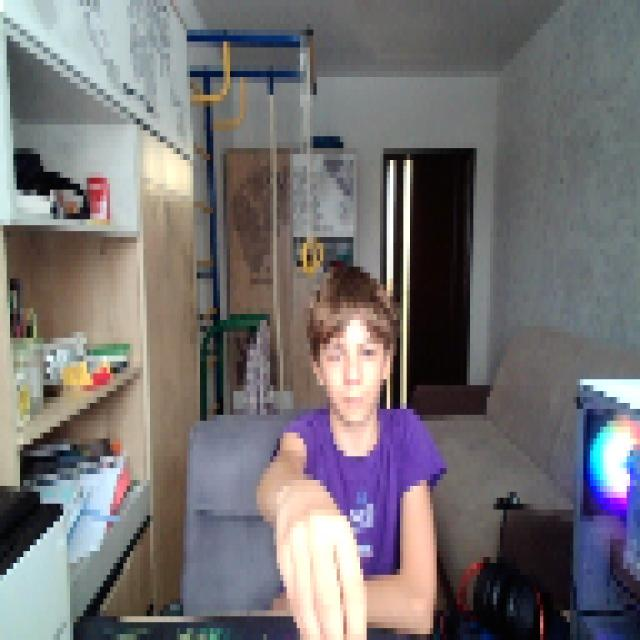left_click: (274, 504, 364, 634)
